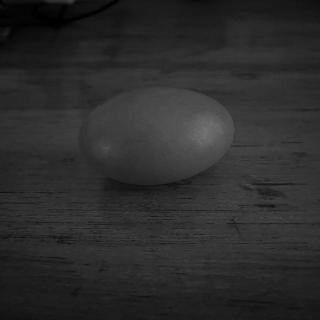Telur: (79, 81, 241, 192)
